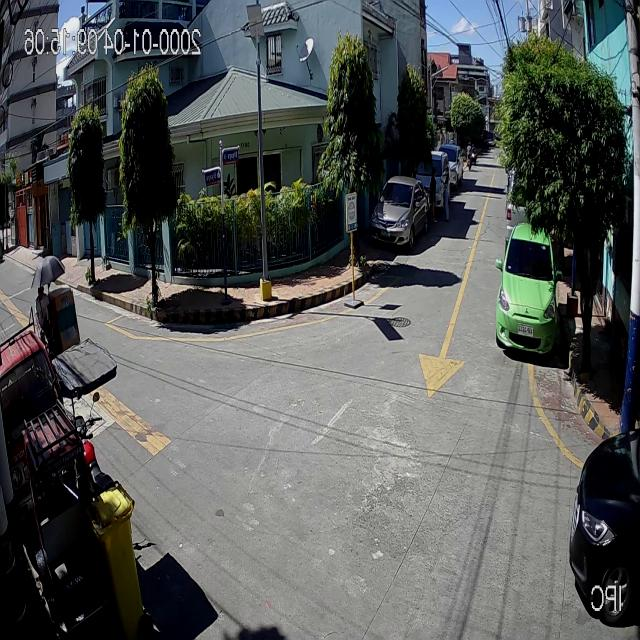standing: (426, 166, 439, 223), (440, 166, 451, 221)
